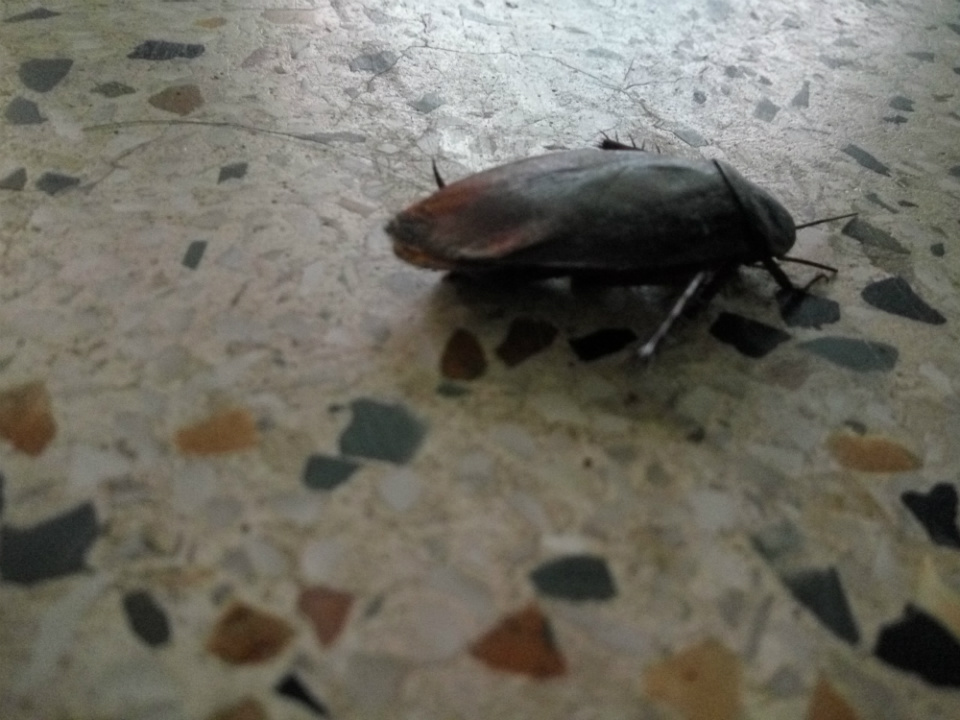cockroach: (354, 107, 893, 416)
